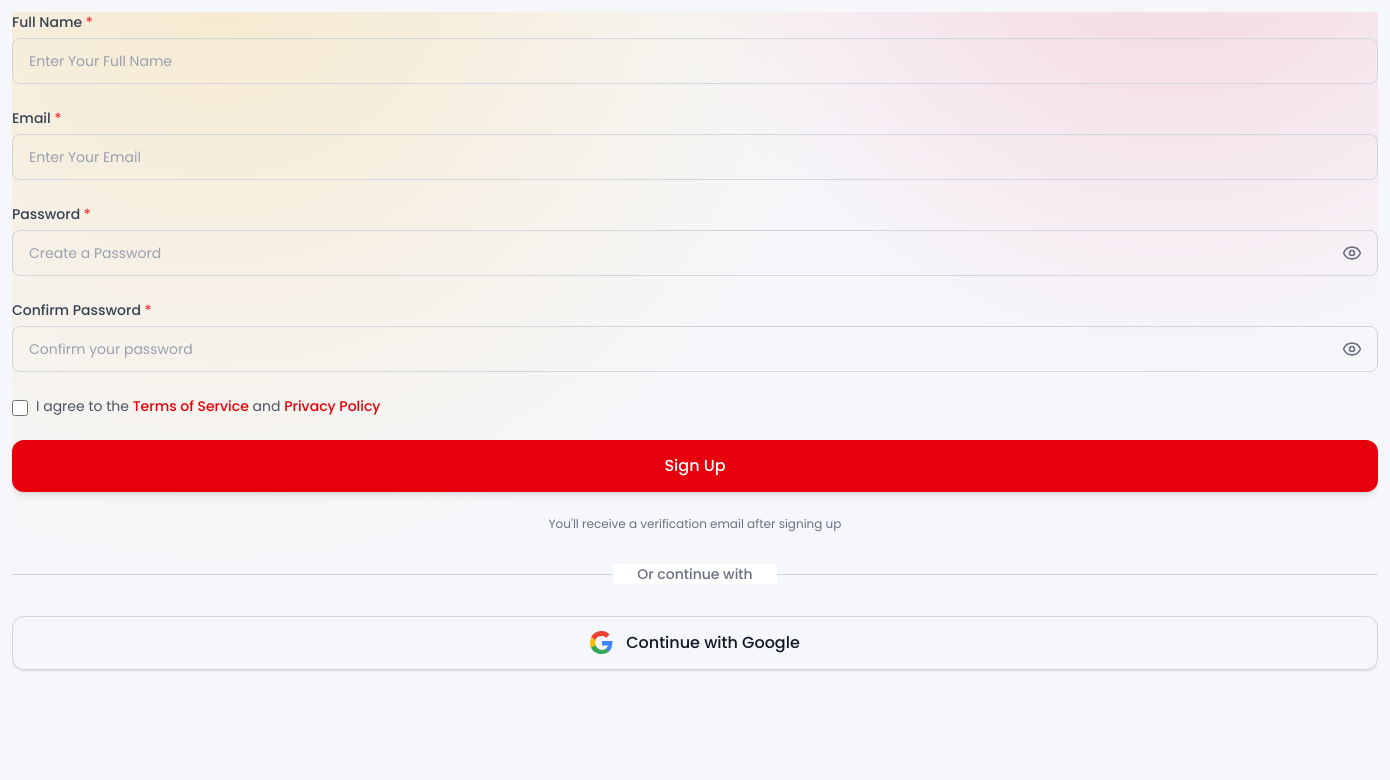
Test: SignupForm › shows validation error for short full name
Type "A" into the field with placeholder "Enter Your Full Name". click: point(695, 61)
box: [12,38,1378,84]
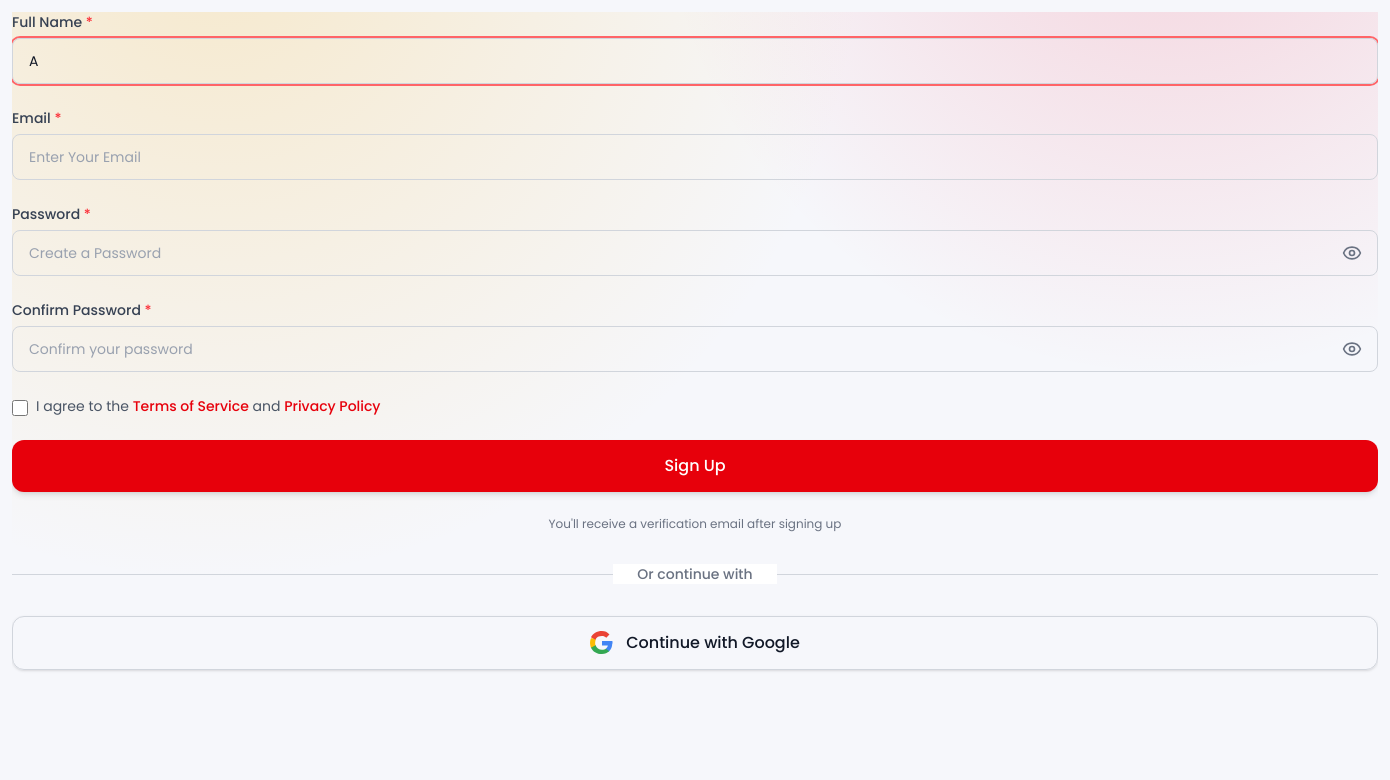
Click the button "Sign Up". click: point(695, 466)
box: [12,440,1378,492]
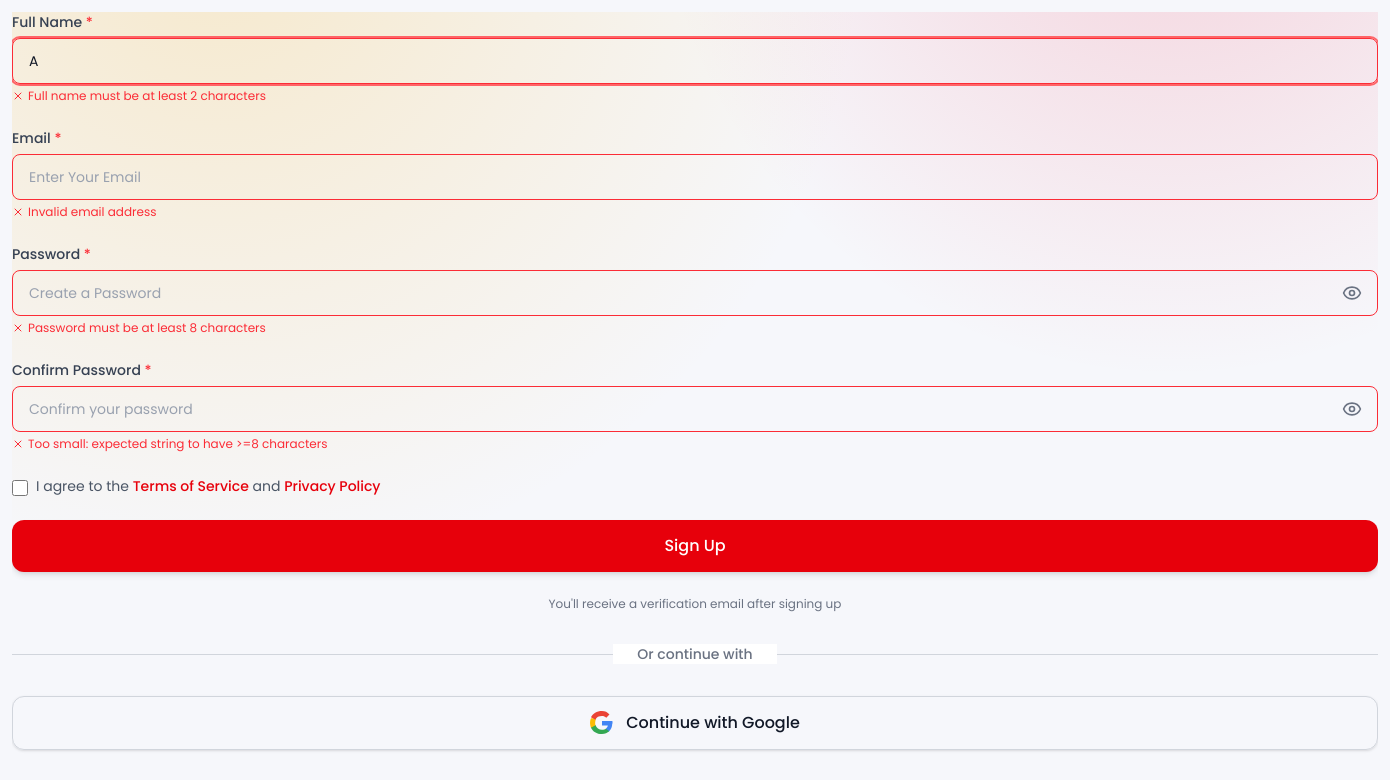
Result: the text "Full name must be at least 2 characters" is shown at [12,87,266,104]
